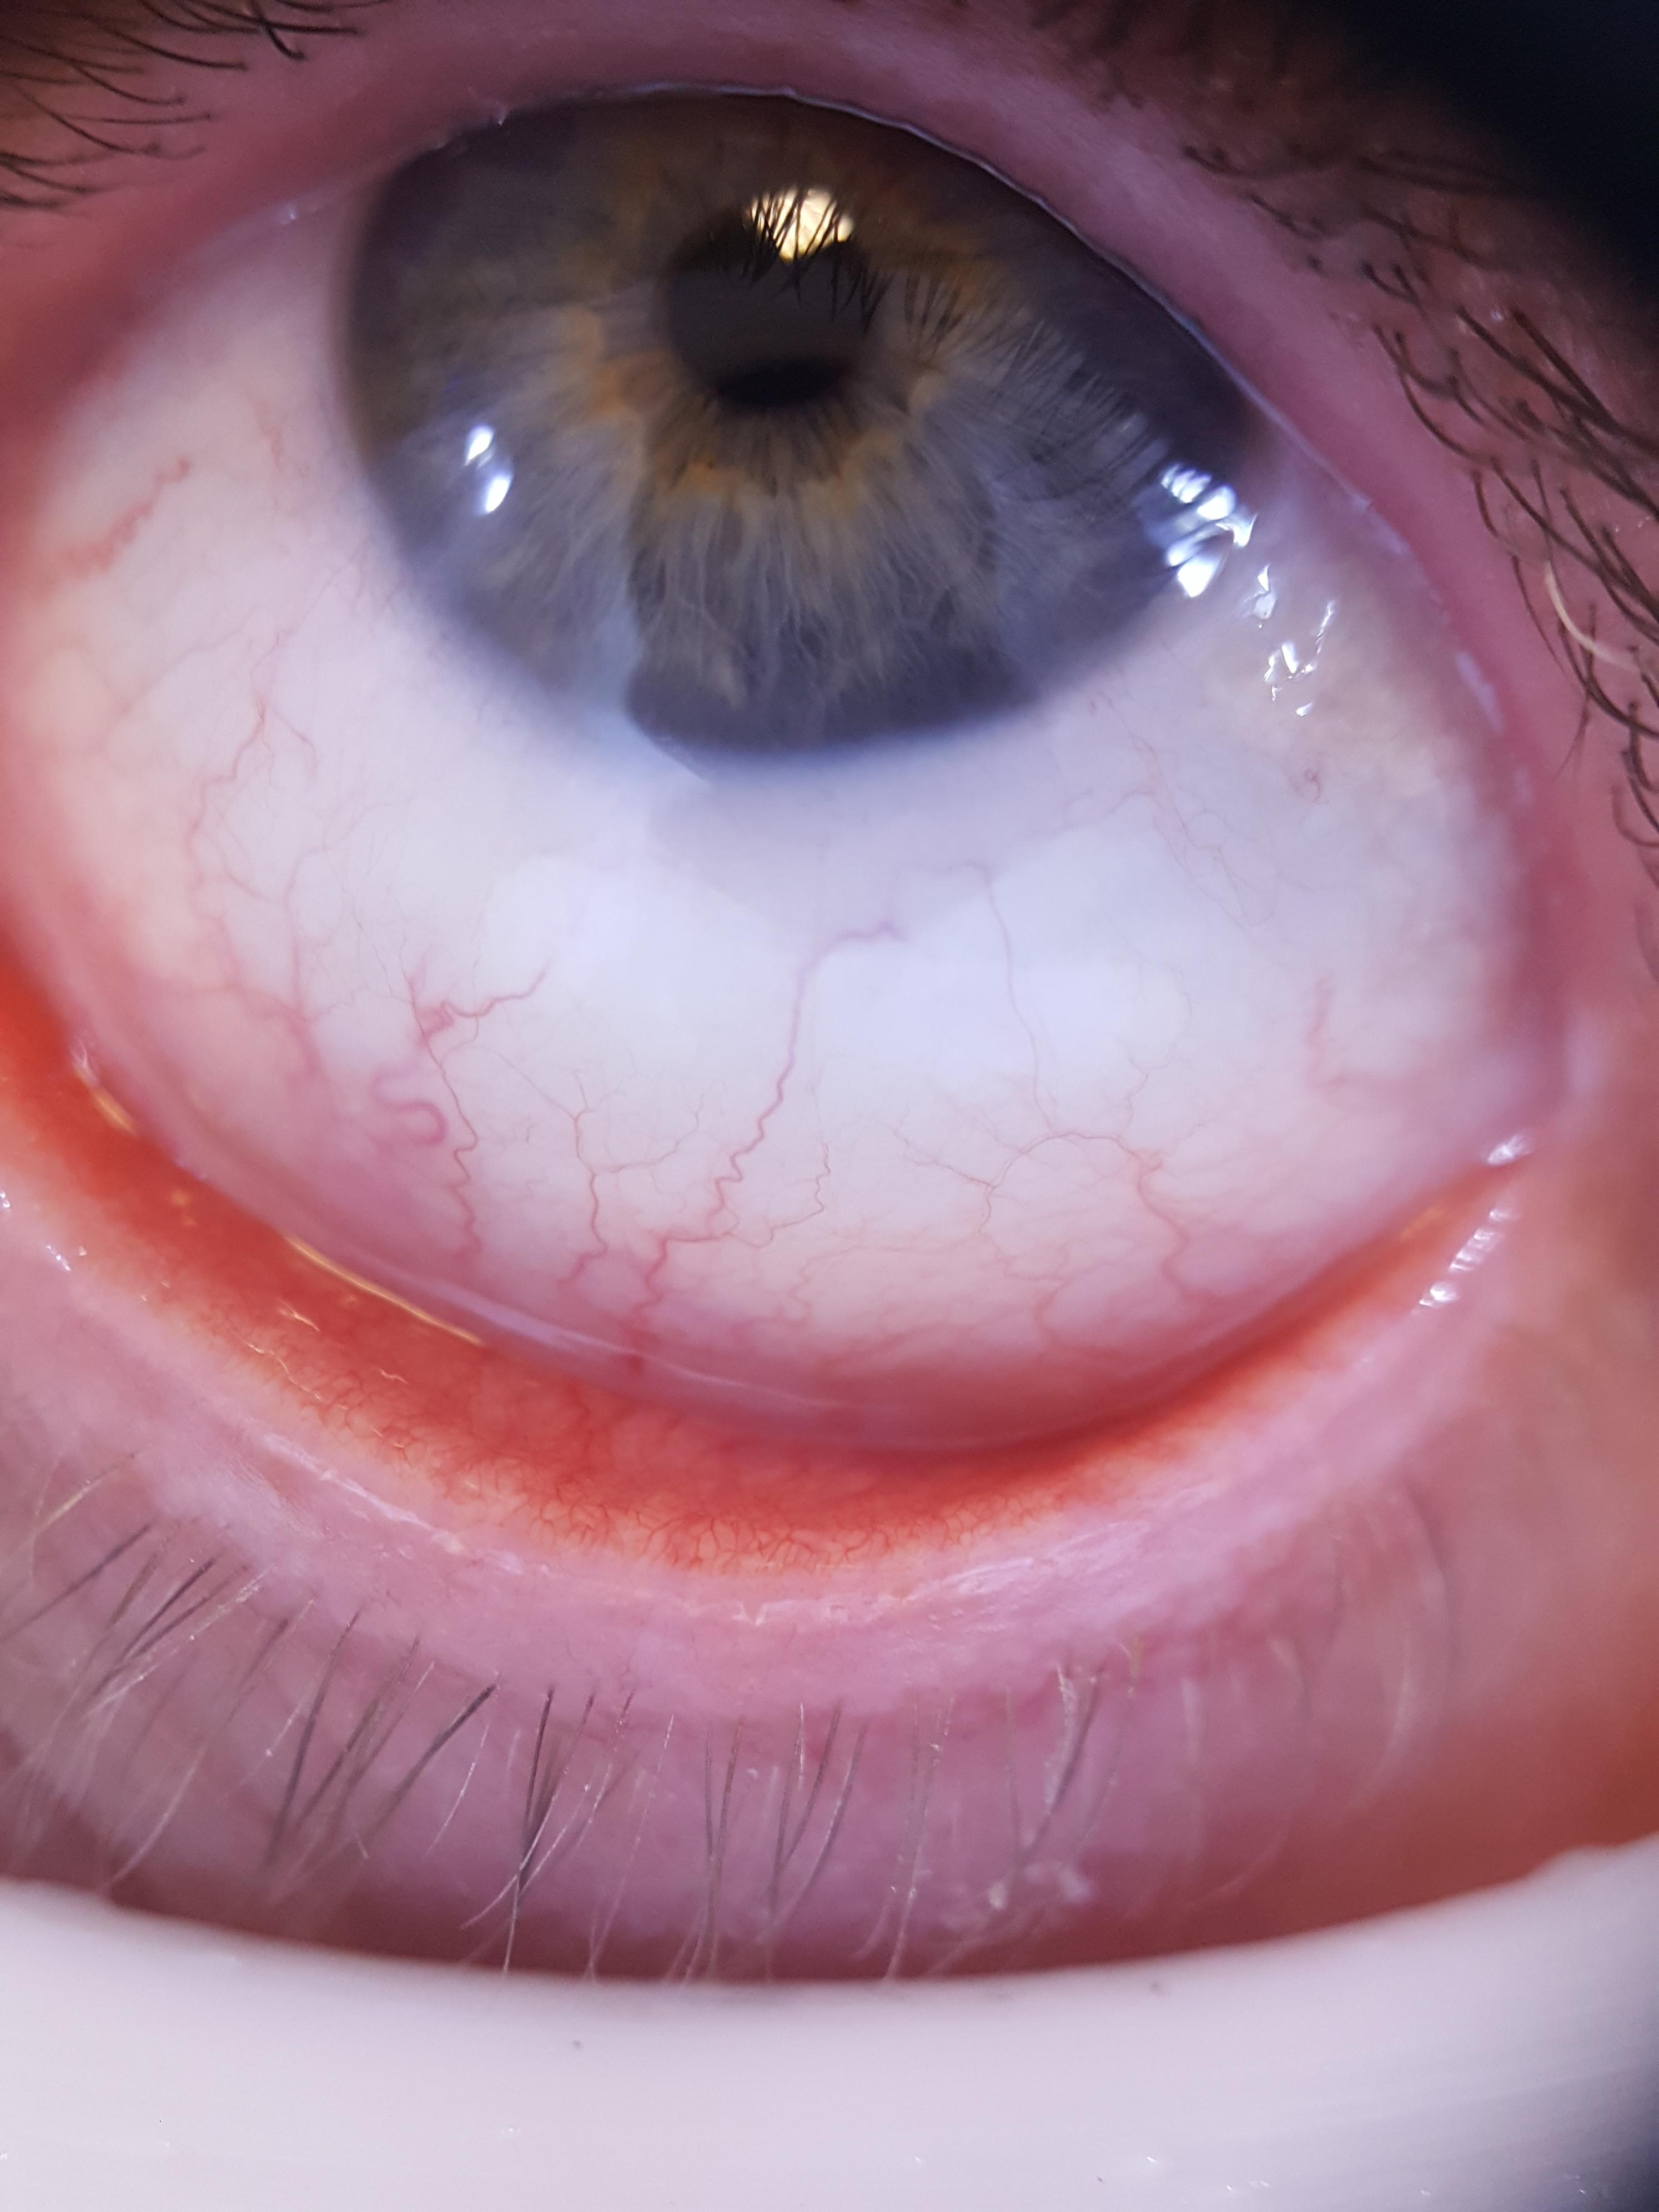forniceal: (277, 1202, 1255, 1447)
forniceal_palpebral: (0, 963, 1495, 1554)
palpebral: (0, 965, 1486, 1545)
